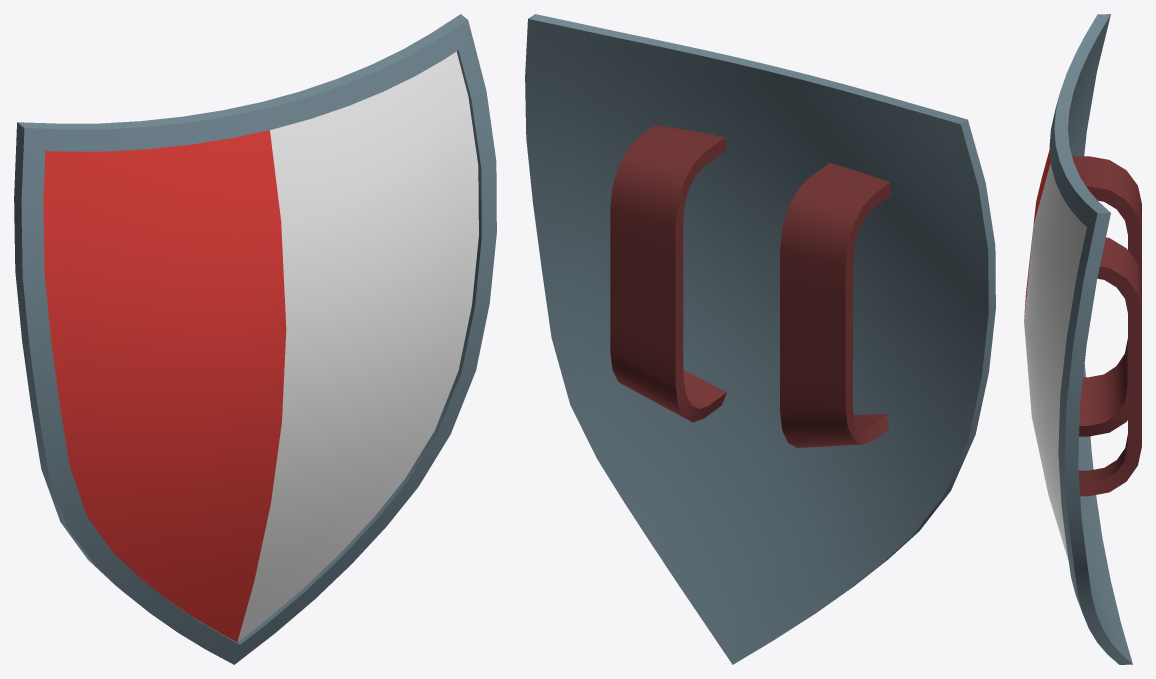
Rendered from shield.glb.
3 renders of one model, left to right at view 1: azimuth 30°, elevation 25°; view 2: azimuth 150°, elevation 25°; view 3: azimuth 270°, elevation 25°, orthographic. The views are drawn at different scales.
Parts seen in each view (by area): view 1: Plane.344; view 2: Plane.344; view 3: Plane.344.
Part boxes in pixels (box(x1,y1,x2,y2)): Plane.344: box(14, 14, 496, 664); Plane.344: box(525, 14, 995, 664); Plane.344: box(1024, 14, 1141, 664).
Bounding box in the file's own units: 2 × 2.42 × 0.4697.
1 material, 1 textured.
